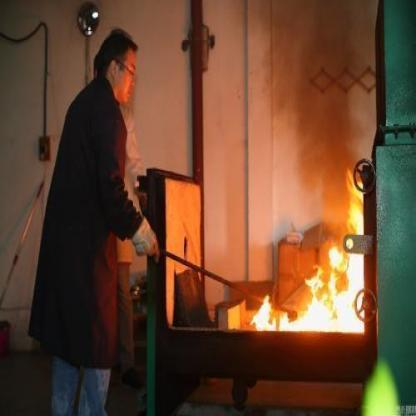Fire: (226, 166, 368, 333)
